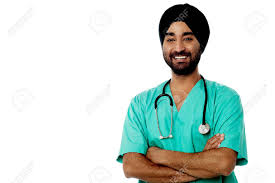Indian_Male: (164, 15, 203, 72)
